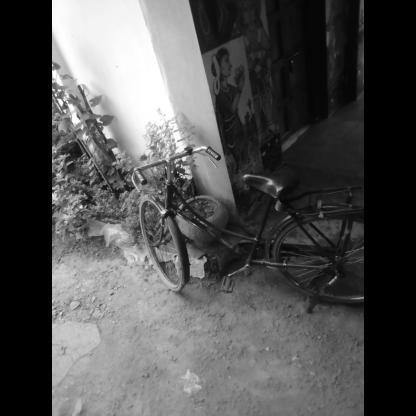Bicycle: (109, 132, 366, 326)
